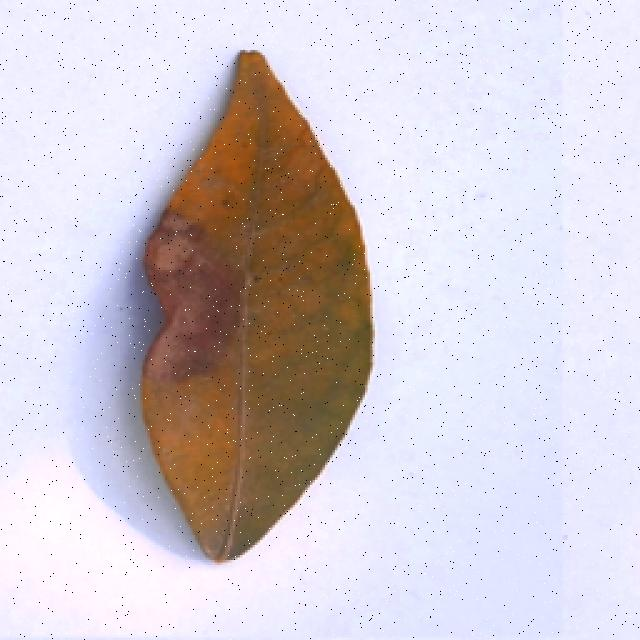blackspot: (133, 47, 390, 566)
